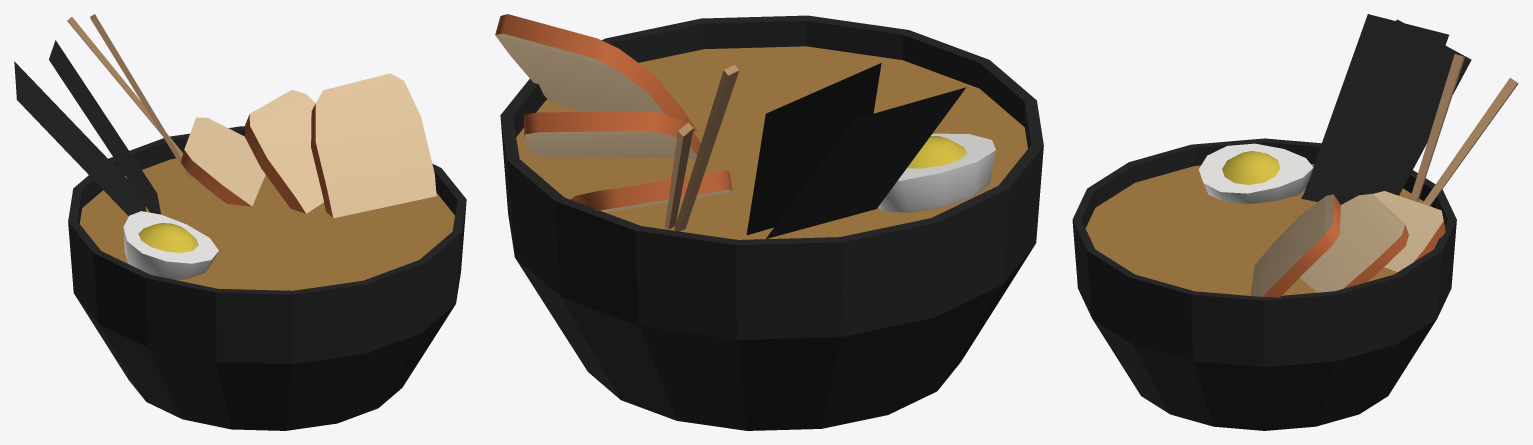
File: SM_bowl_ramennoodles.fbx
3 views of the same model, side by side, from view 1: azimuth 30°, elevation 25°; view 2: azimuth 150°, elevation 25°; view 3: azimuth 270°, elevation 25° (orthographic). The views are drawn at different scales.
Visible parts, largest first — view 1: Cylinder046; view 2: Cylinder046; view 3: Cylinder046.
Part boxes in pixels (left/top/right/bottom): Cylinder046: left=14, top=14, right=466, bottom=430; Cylinder046: left=495, top=14, right=1043, bottom=430; Cylinder046: left=1072, top=14, right=1518, bottom=430.
Size of the model in its own units: 16.13 by 17.57 by 14.03.
